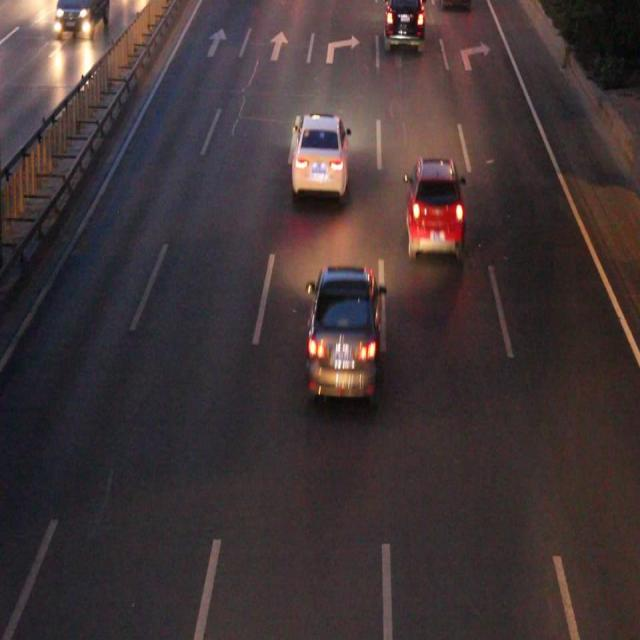car: (308, 270, 379, 394), (406, 162, 462, 250), (294, 116, 348, 192), (383, 2, 422, 48)
